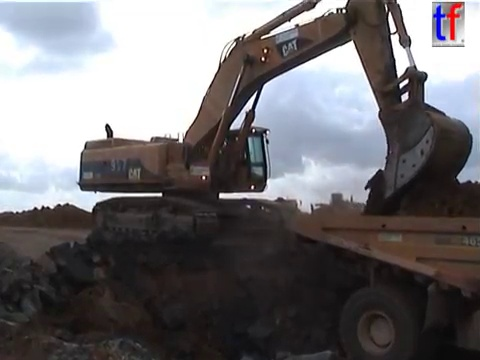excavator: (73, 1, 477, 249)
truck: (284, 209, 480, 360)
wheel loader: (301, 191, 372, 228)
